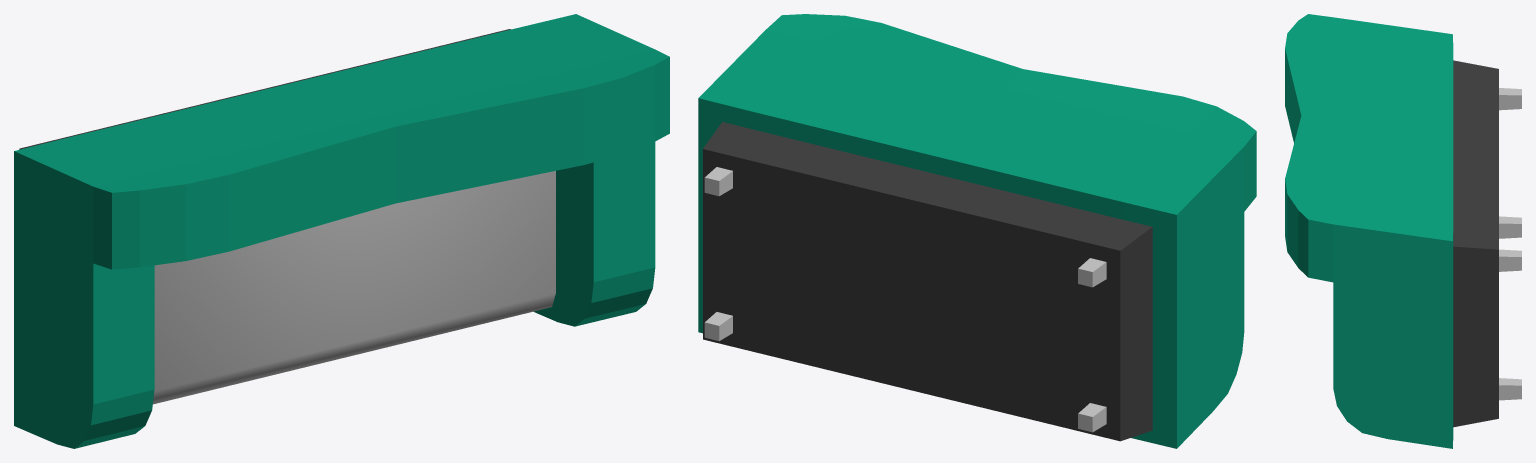
File: Sofa_1.obj
3 views of the same model, side by side, from view 1: azimuth 30°, elevation 25°; view 2: azimuth 150°, elevation 25°; view 3: azimuth 270°, elevation 25° (orthographic). The views are drawn at different scales.
Parts seen in each view (by area): view 1: Sofa_1; view 2: Sofa_1; view 3: Sofa_1.
Boxes of the visible parts, x1,y1,x2,y2 form: Sofa_1: [14, 14, 669, 448]; Sofa_1: [698, 14, 1256, 448]; Sofa_1: [1285, 14, 1521, 448].
Size of the model in its own units: 1.79 by 0.9366 by 0.8665.
